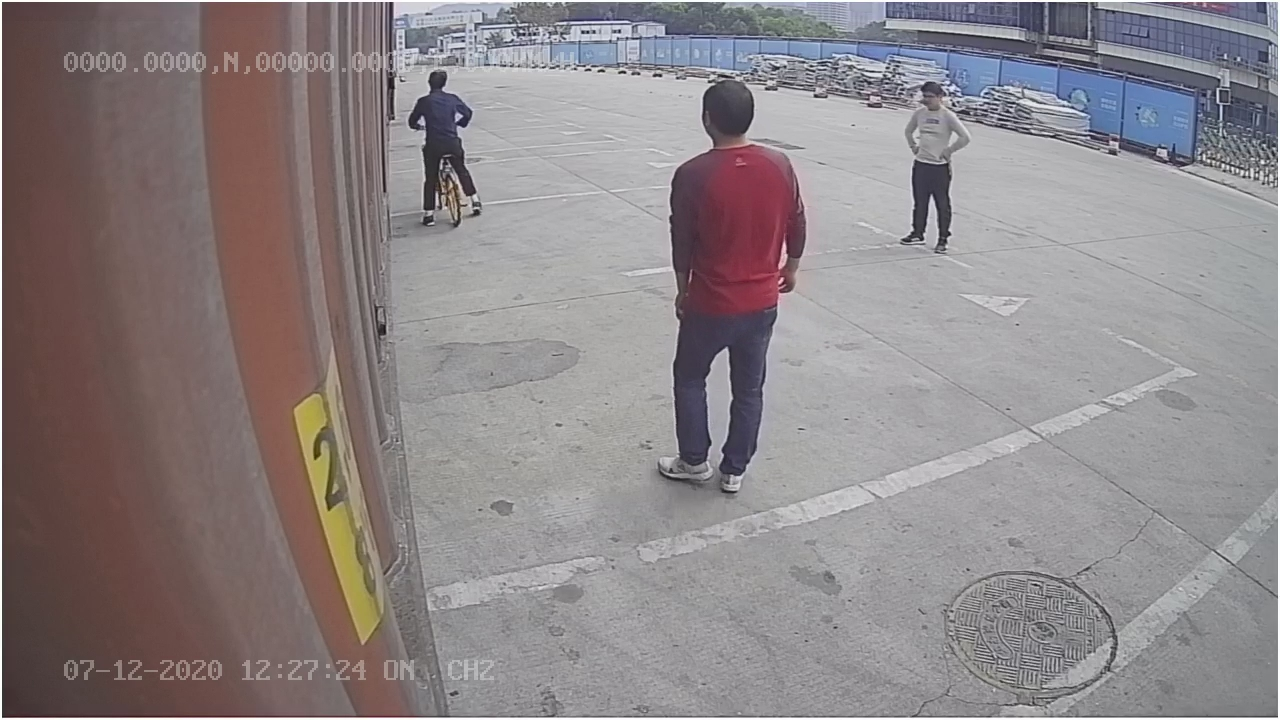person: (655, 73, 814, 504)
